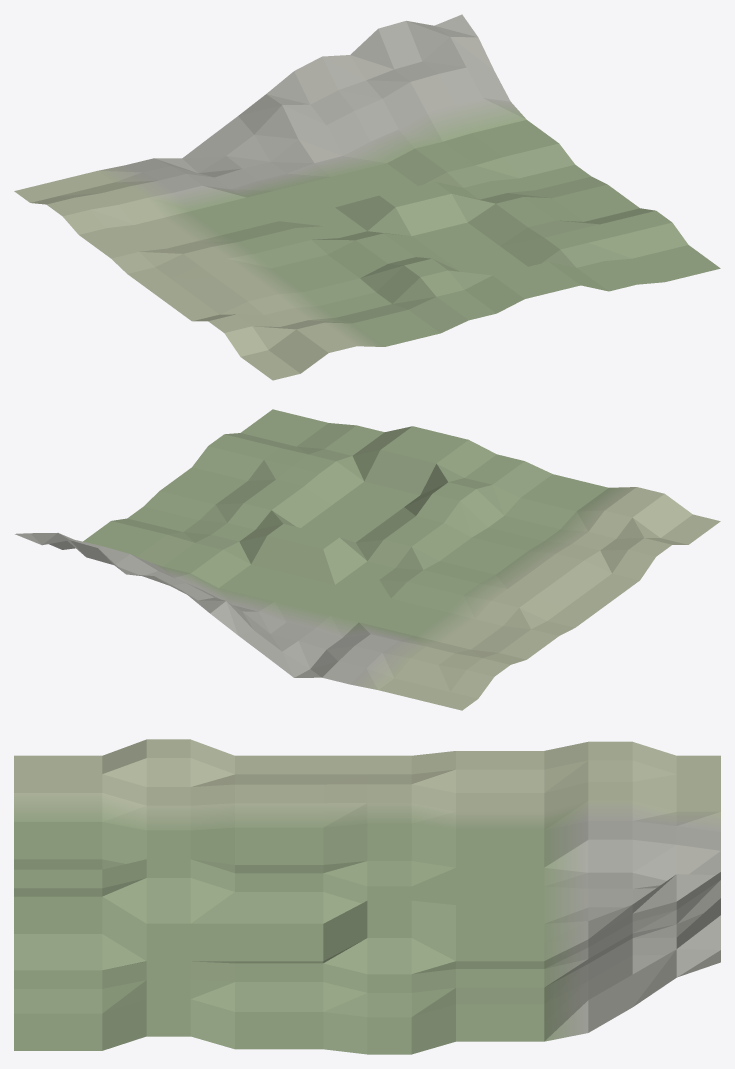
3 views of the same model, one above another, from view 1: azimuth 30°, elevation 25°; view 2: azimuth 150°, elevation 25°; view 3: azimuth 270°, elevation 25° (orthographic). The views are drawn at different scales.
Bounding box in the file's own units: 32 × 5.87 × 32.
